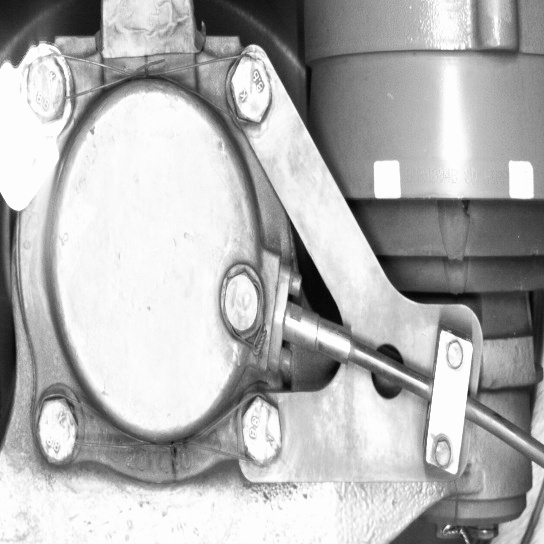IronWire: (14, 44, 276, 129), (29, 389, 287, 475)
Screw: (215, 47, 276, 129), (15, 45, 74, 129), (231, 387, 287, 473), (26, 389, 83, 472), (214, 261, 265, 344)
